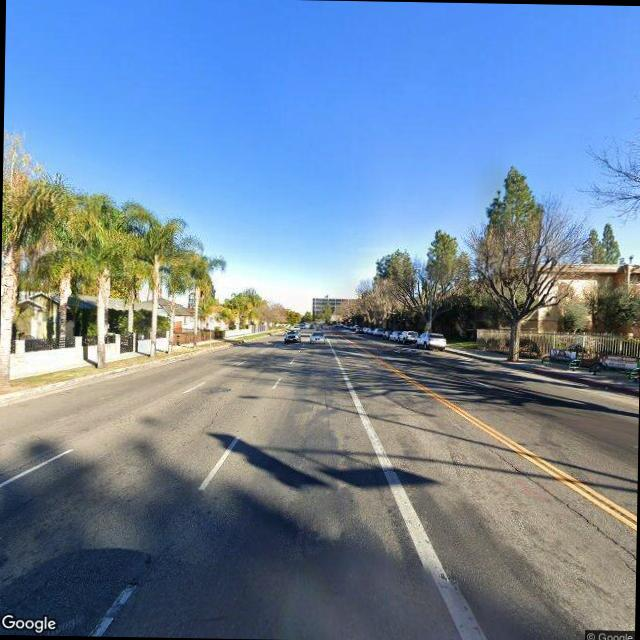pothole: (462, 424, 637, 554), (174, 400, 223, 450)
